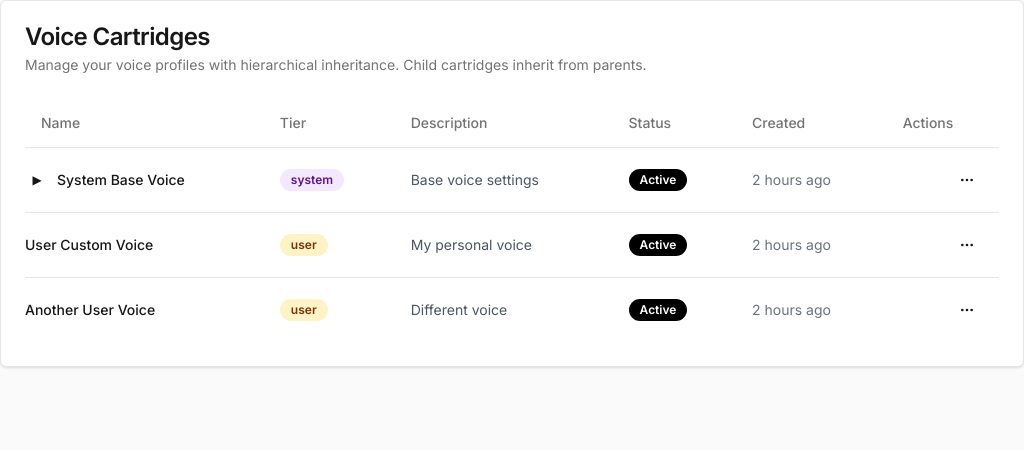
Test: CartridgeList Component - HTML Structure Fix › Hierarchical Display › expands child cartridges when clicking expand
Click expand
Click the button "▶" at (37, 180), box [25,168,49,192]
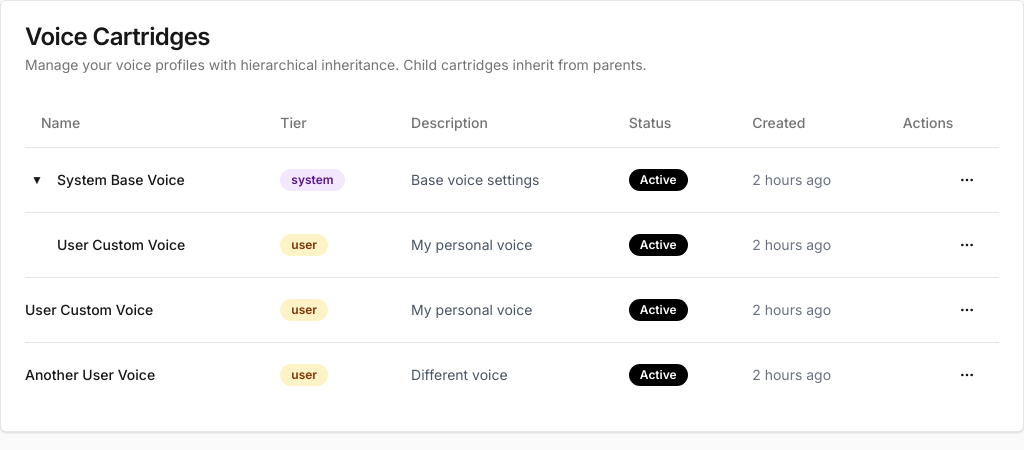
Expected: the text "▼" is shown, [31,172,43,188]
